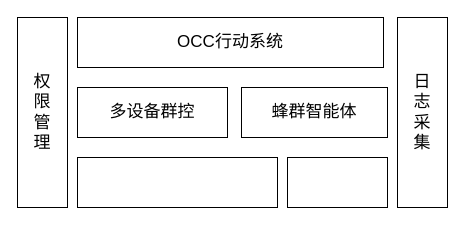
Some shapes in this 465 by 225 pixel diagram are drawn without their labels. Here are the shapes that lost their labels. From the top down, the centre of each, then its label:
At [177,182]: "数据采集".
At [337,182]: "私有大模型".
